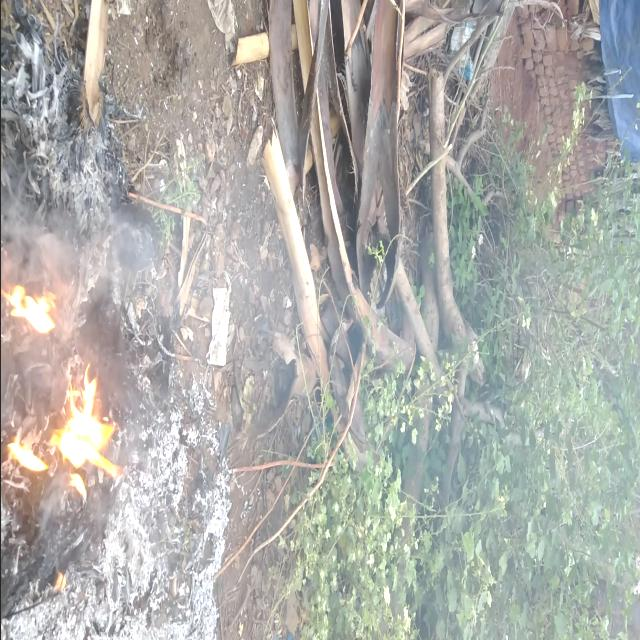firerotation: (6, 360, 124, 498), (0, 276, 60, 338)
